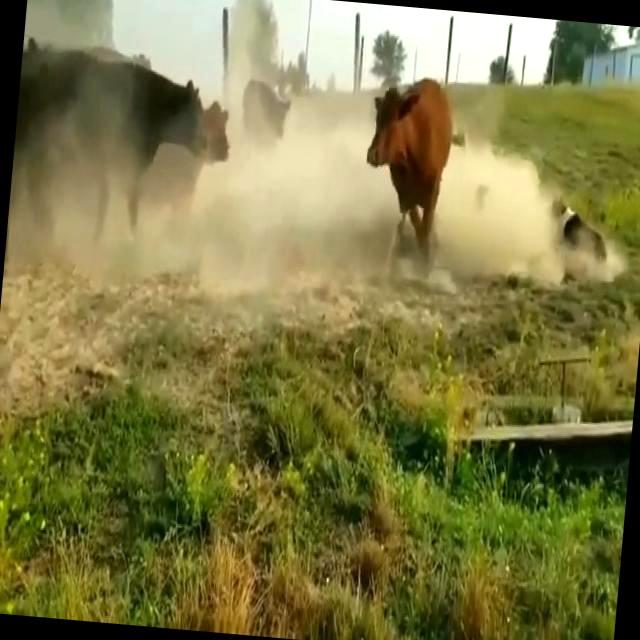COW: (367, 77, 452, 245)
